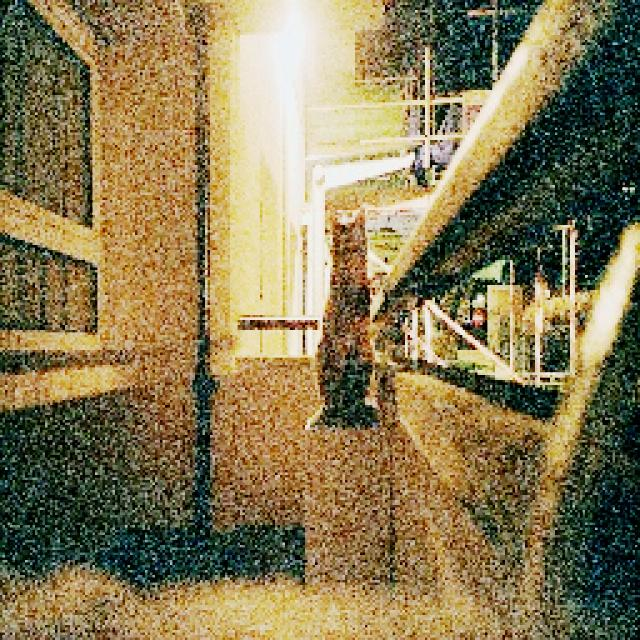cat: (273, 198, 414, 436)
